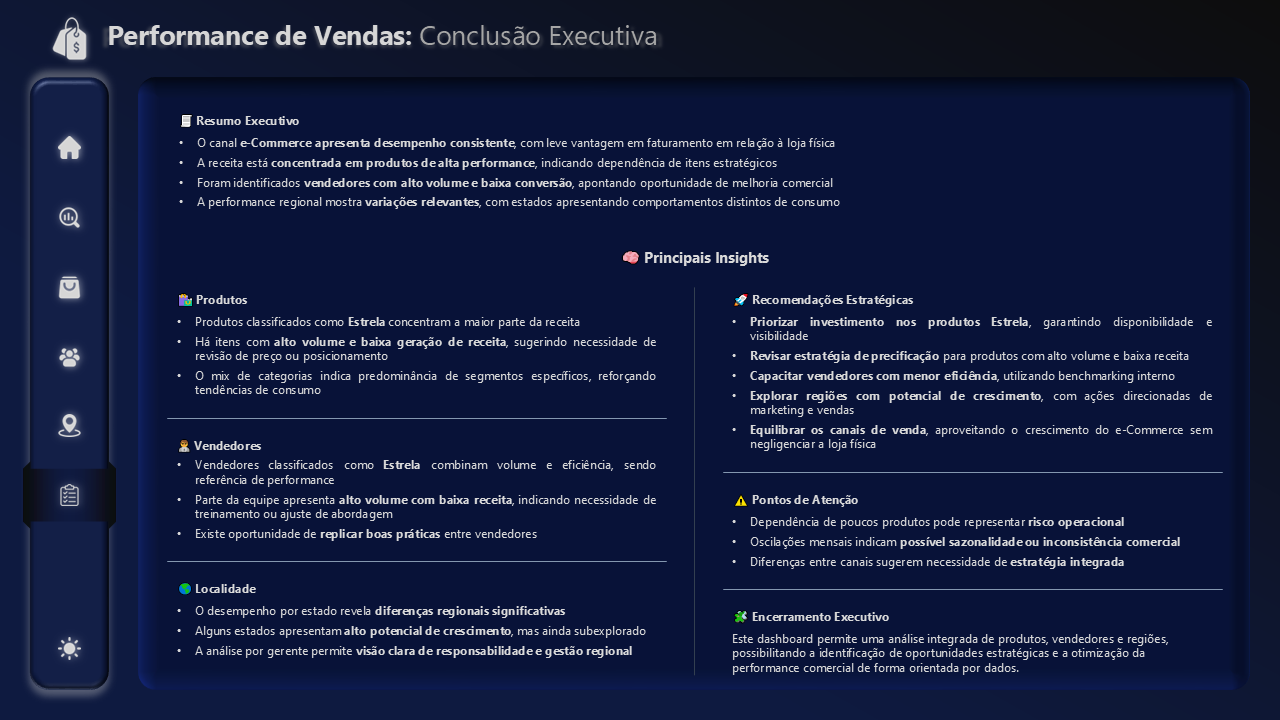

Layout of this report page (visuals, bound fields, positions):
{"tool":"powerbi","page":{"name":"conclusao-dark","canvas":[1280,720],"ordinal":10},"visuals":[{"type":"actionButton","box":[52,130,36,36],"z":0},{"type":"actionButton","box":[52,200,36,36],"z":1},{"type":"actionButton","box":[52,630,36,36],"z":2},{"type":"actionButton","box":[52,270,36,36],"z":3},{"type":"actionButton","box":[52,340,36.2,36.2],"z":4},{"type":"actionButton","box":[52,408,36.2,36.2],"z":5}]}

Visuals, with their boxes on the page's 1280x720 design canvas (x1, y1, x2, y2). These are canvas units, not pixel positions in the 1280x720 screenshot, which may show the page scaled, cropped or inside an application window:
actionButton: locate(52, 130, 88, 166)
actionButton: locate(52, 200, 88, 236)
actionButton: locate(52, 630, 88, 666)
actionButton: locate(52, 270, 88, 306)
actionButton: locate(52, 340, 88, 376)
actionButton: locate(52, 408, 88, 444)
